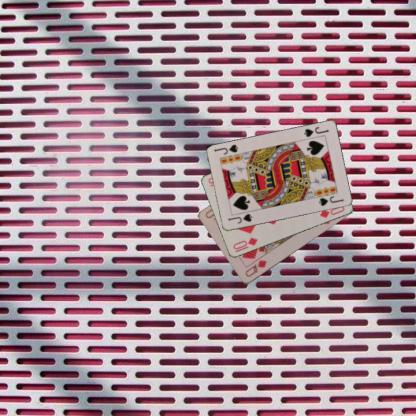10d: (230, 235, 259, 251)
Js: (225, 211, 254, 226), (301, 124, 330, 138)
Qd: (243, 257, 268, 279)
